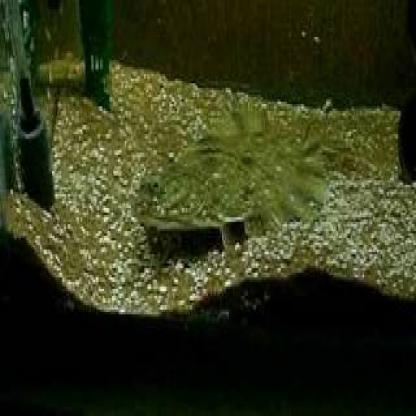flounder: (124, 94, 358, 265)
